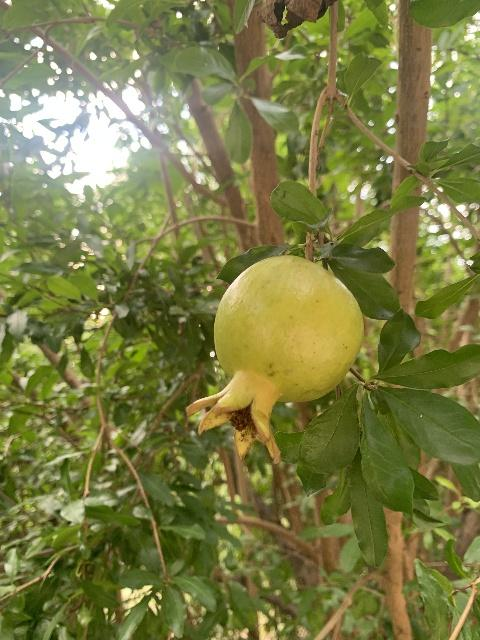mid-growth: (185, 254, 363, 465)
